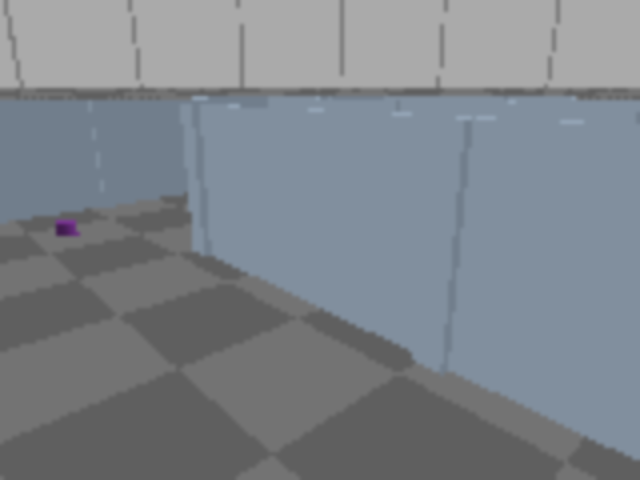puck: (58, 220, 75, 238)
